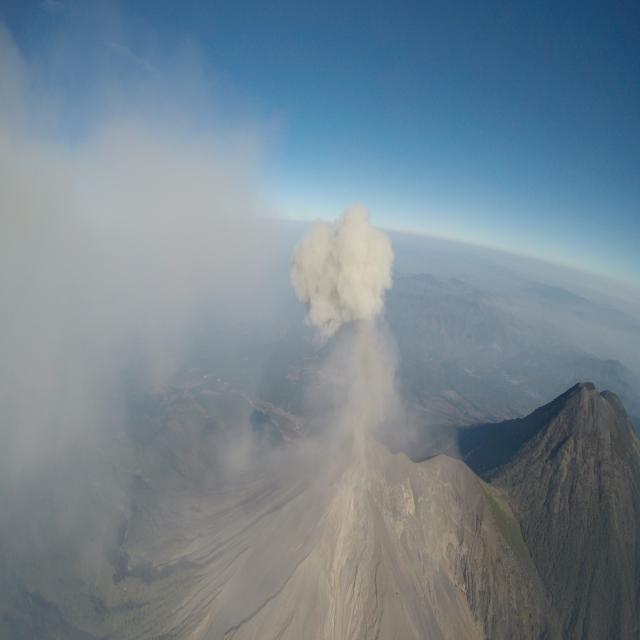Plume: (0, 9, 275, 589), (290, 204, 398, 340)
